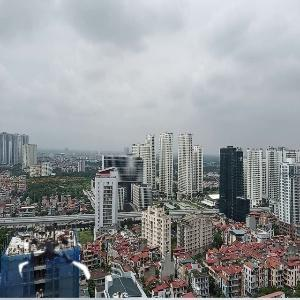drone: (15, 223, 87, 295)
